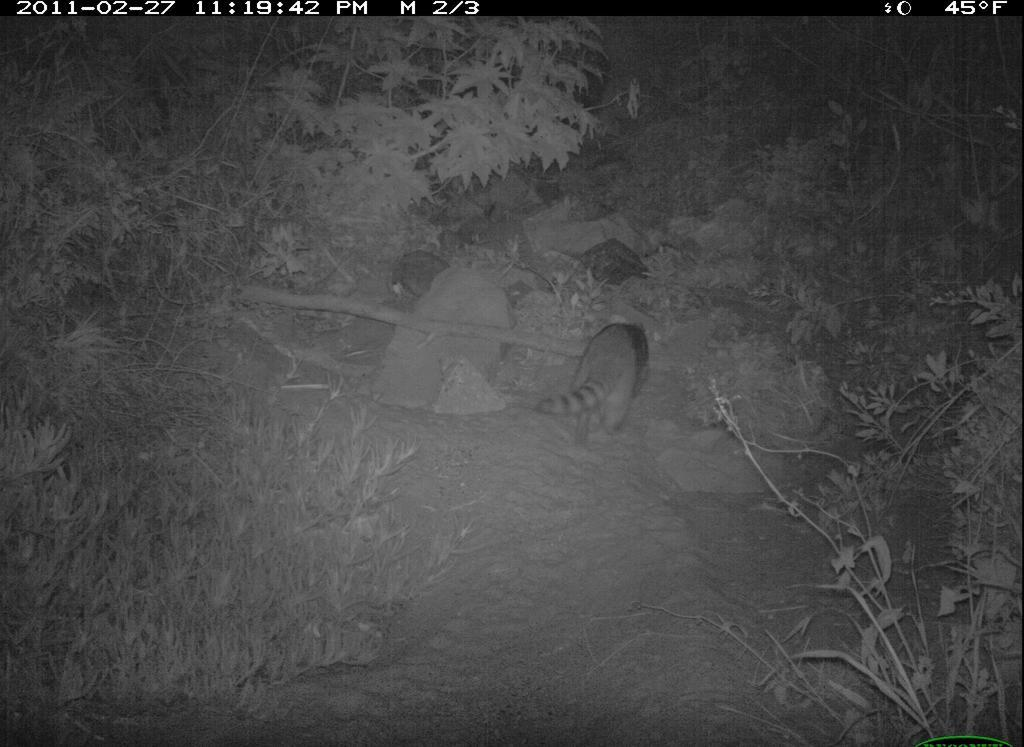raccoon: (538, 312, 664, 452)
